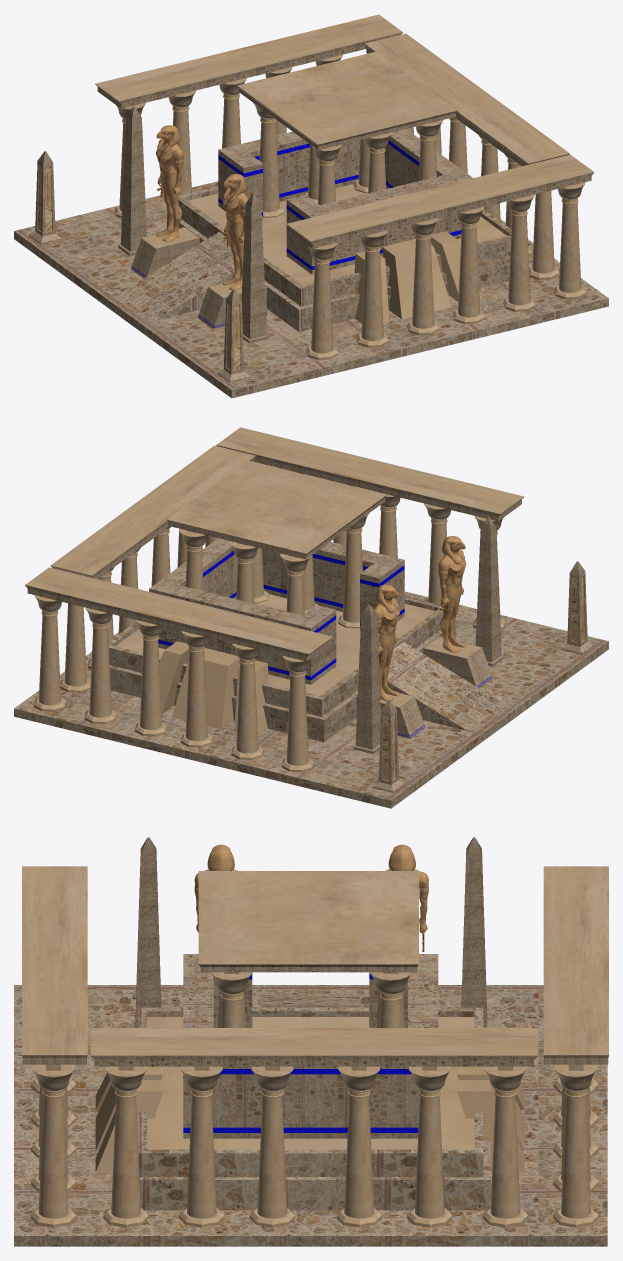
The model's file is temple_of_horus_-_gameready_asset.glb.
3 views of the same model, one above another, from view 1: azimuth 30°, elevation 25°; view 2: azimuth 150°, elevation 25°; view 3: azimuth 270°, elevation 25° (orthographic). The views are drawn at different scales.
Visible parts, largest first — view 1: Temple_Base, Roof_Decor, Temple_Cover, Roof_Decor__2_, Roof_Decor__1_, Roof_Decor__3_, Obelisk_D__1_, Obelisk_D, Horus, Horus__1_, Statue_Base_A__2_, Piller_Med__1__11 (+18 smaller); view 2: Temple_Base, Roof_Decor, Temple_Cover, Roof_Decor__1_, Roof_Decor__2_, Roof_Decor__3_, Obelisk_D, Obelisk_D__1_, Horus__1_, Horus, Statue_Base_A__1_, Piller_Med__1__6 (+18 smaller); view 3: Temple_Base, Roof_Decor, Roof_Decor__3_, Temple_Cover, Roof_Decor__1_, Roof_Decor__2_, Obelisk_D, Obelisk_D__1_, Piller_Med__1__17, Piller_Med__1__19, Piller_Med__1__16, Piller_Med__1__18 (+18 smaller).
Part boxes in pixels (x1,y1,x2,y2): Temple_Base: (14,181,608,398); Roof_Decor: (237,51,457,150); Temple_Cover: (218,129,472,274); Roof_Decor__2_: (286,154,594,248); Roof_Decor__1_: (95,14,402,108); Roof_Decor__3_: (364,33,569,166); Obelisk_D__1_: (241,193,269,343); Obelisk_D: (118,106,146,255); Horus: (156,125,183,242); Horus__1_: (222,174,248,290); Statue_Base_A__2_: (131,227,199,278); Piller_Med__1__11: (412,239,434,328); Temple_Base: (14,591,608,808); Roof_Decor: (166,460,386,559); Temple_Cover: (149,538,404,684); Roof_Decor__1_: (25,567,332,661); Roof_Decor__2_: (216,427,523,521); Roof_Decor__3_: (50,445,255,578); Obelisk_D: (353,604,380,753); Obelisk_D__1_: (475,516,504,666); Horus__1_: (438,536,466,652); Horus: (373,584,399,701); Statue_Base_A__1_: (423,637,492,688); Piller_Med__1__6: (236,663,258,753); Temple_Base: (14,985,607,1246); Roof_Decor: (198,871,418,972); Roof_Decor__3_: (90,1028,537,1066); Temple_Cover: (183,954,438,1138); Roof_Decor__1_: (543,866,608,1064); Roof_Decor__2_: (22,866,87,1064); Obelisk_D: (461,837,489,1027); Obelisk_D__1_: (132,837,161,1027); Piller_Med__1__17: (490,1096,520,1218); Piller_Med__1__19: (257,1096,287,1218); Piller_Med__1__16: (38,1096,68,1218); Piller_Med__1__18: (415,1096,444,1218).
Size of the model in its own units: 23.3 by 9.84 by 23.36.
Materials: 9 (8 with a texture image).
